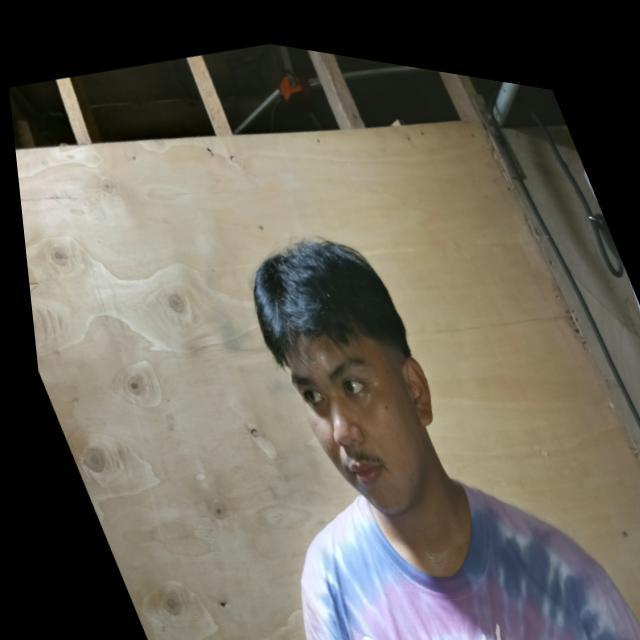Nonhelmet: (249, 234, 443, 517)
